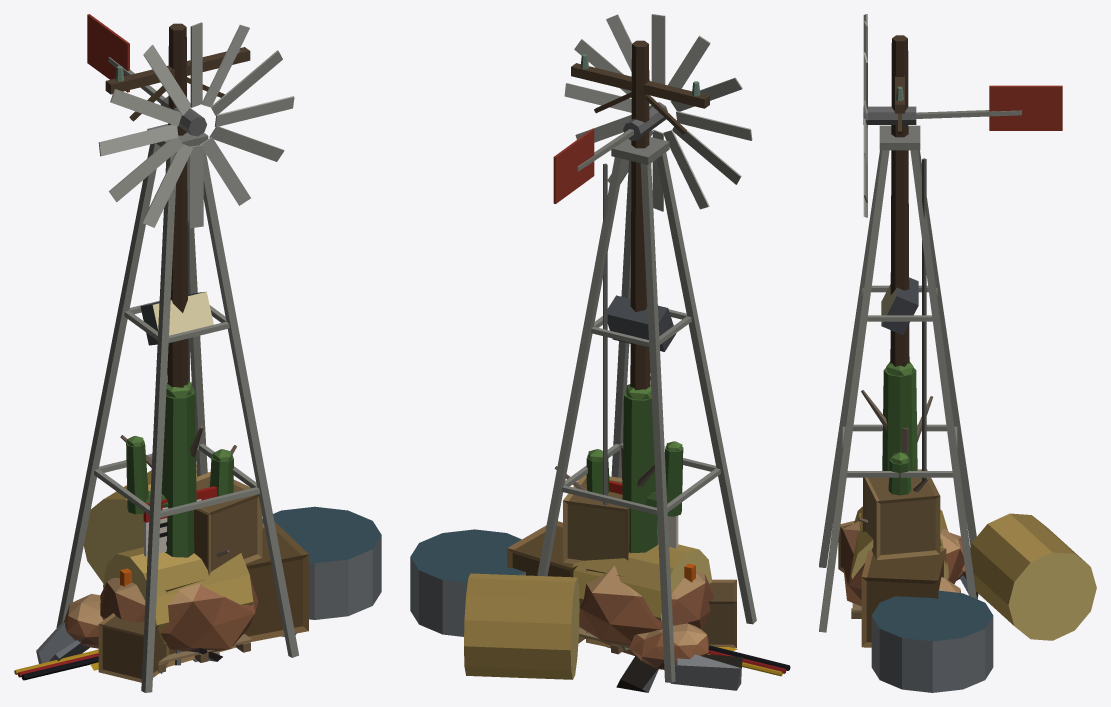
File: decor-v1.glb
3 views of the same model, side by side, from view 1: azimuth 30°, elevation 25°; view 2: azimuth 150°, elevation 25°; view 3: azimuth 270°, elevation 25° (orthographic). The views are drawn at different scales.
Visible parts, largest first — view 1: kit_windmill, kit_crates, kit_hay, kit_rocks, kit_saguaro, kit_pole, kit_floodlight, kit_shards, kit_cables, kit_sign, kit_pallet-sacks; view 2: kit_windmill, kit_hay, kit_crates, kit_rocks, kit_pole, kit_saguaro, kit_shards, kit_floodlight, kit_cables; view 3: kit_windmill, kit_hay, kit_crates, kit_pole, kit_saguaro, kit_rocks, kit_floodlight, kit_dead-tree.
Part boxes in pixels (x1,y1,x2,y2): kit_windmill: (56,14,381,692); kit_crates: (98,472,308,682); kit_hay: (83,465,253,644); kit_rocks: (64,577,258,651); kit_saguaro: (126,381,233,557); kit_pole: (105,23,250,387); kit_floodlight: (140,291,213,665); kit_shards: (36,620,296,673); kit_cables: (14,649,98,680); kit_sign: (143,486,217,556); kit_pallet-sacks: (157,634,251,673); kit_windmill: (410,14,756,682); kit_hay: (464,544,712,679); kit_crates: (507,474,736,651); kit_rocks: (579,565,714,669); kit_pole: (571,40,709,390); kit_saguaro: (586,384,683,553); kit_shards: (616,654,743,692); kit_floodlight: (585,295,676,638); kit_cables: (707,645,790,676); kit_windmill: (819,14,1062,692); kit_hay: (851,506,1096,640); kit_crates: (838,469,946,647); kit_pole: (890,35,909,366); kit_saguaro: (882,361,917,495); kit_rocks: (842,521,965,606); kit_floodlight: (881,277,918,334); kit_dead-tree: (858,390,933,524).
Bounding box in the file's own units: 4.75 × 8.15 × 3.42.
